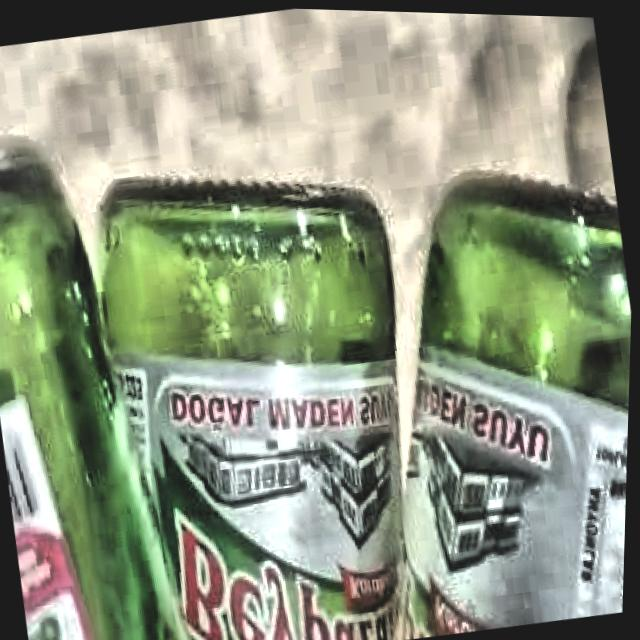glass: (0, 138, 633, 640)
